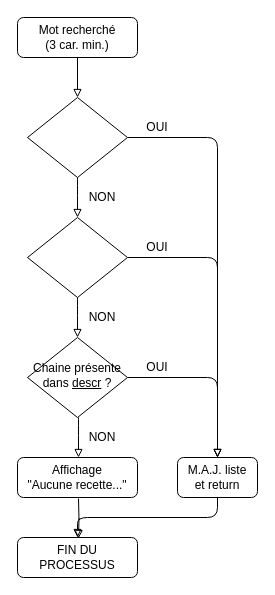
Image size: 275x595. Some labels were removed from this diagram. Here are the shapes that lost their labels. From the top down, the box of each, then its label:
(26, 96, 128, 178): Chaine présente dans titre ?
(26, 216, 128, 298): Chaine présente dans ingr ?
